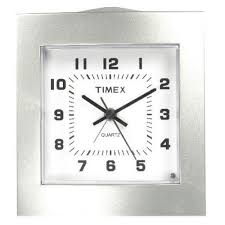alarm_clock: (13, 4, 208, 218), (13, 8, 208, 218)
